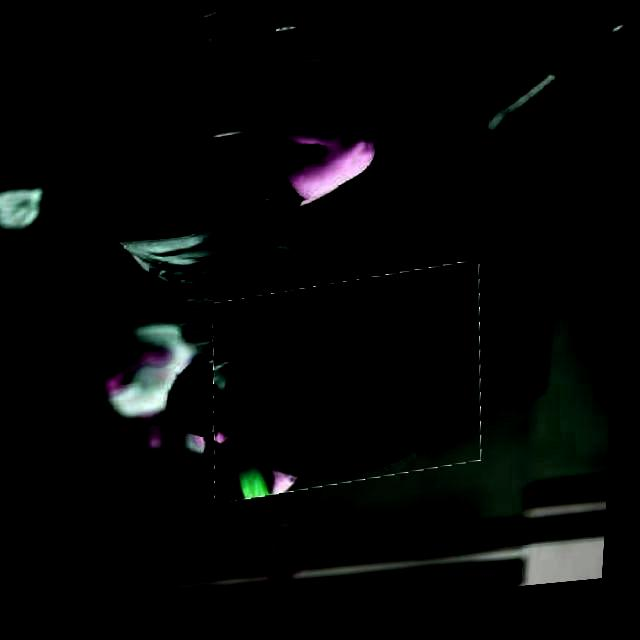barbell: (212, 273, 494, 505)
